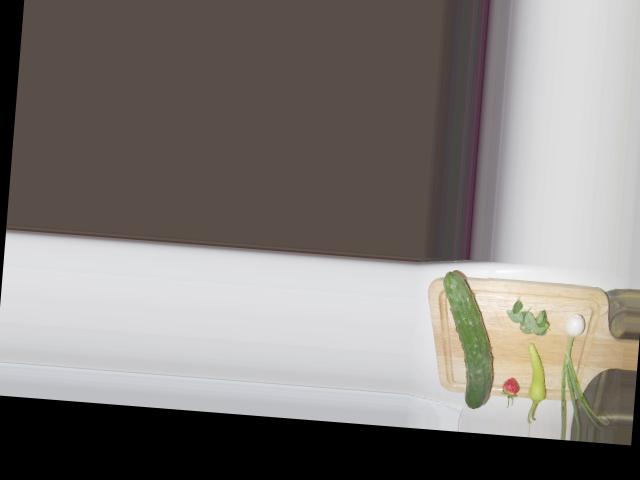cucumber: (433, 270, 500, 409)
